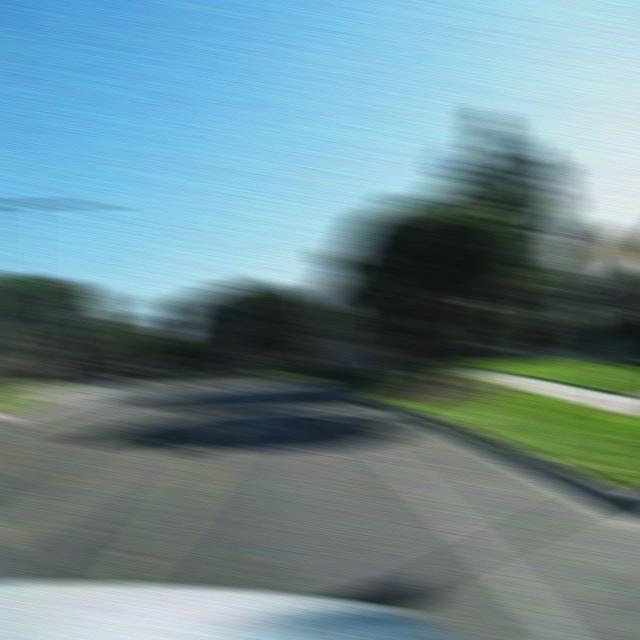pedestrianCrossing: (569, 213, 639, 287)
